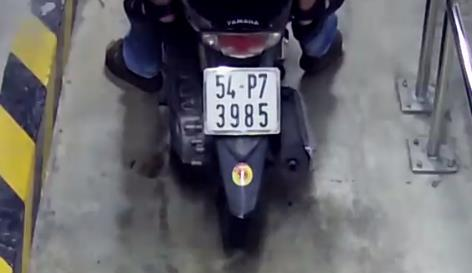lisence: (202, 66, 280, 135)
